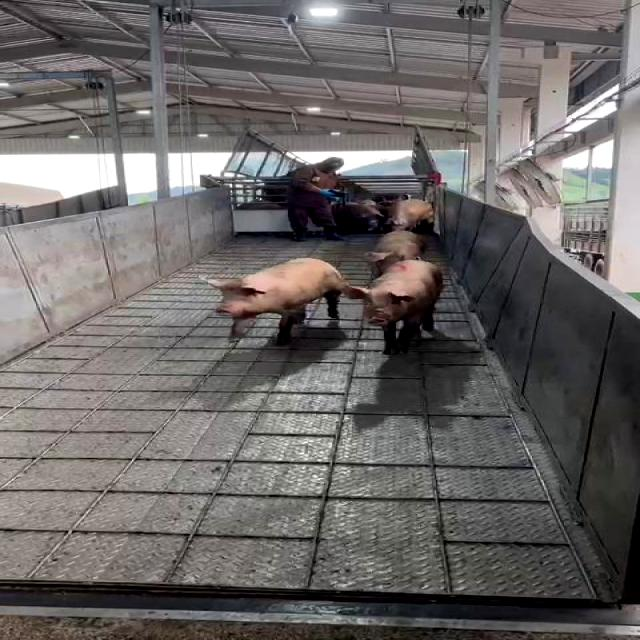pig: (209, 258, 346, 343), (346, 260, 442, 353), (367, 230, 426, 278)
